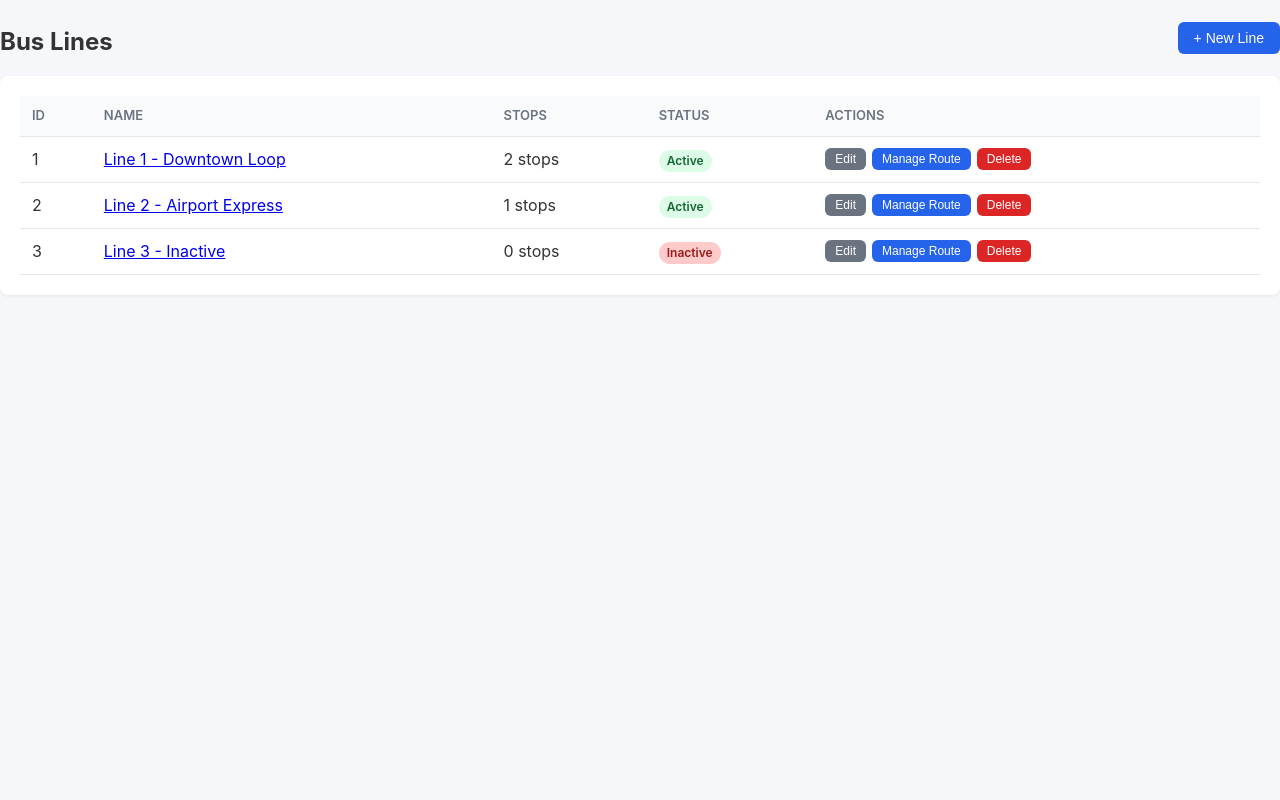
Scenario: BusLines Page › opens create modal when clicking "+ New Line"
Click the button "+ New Line" at coordinates (1229, 38), box [1178, 22, 1279, 54]
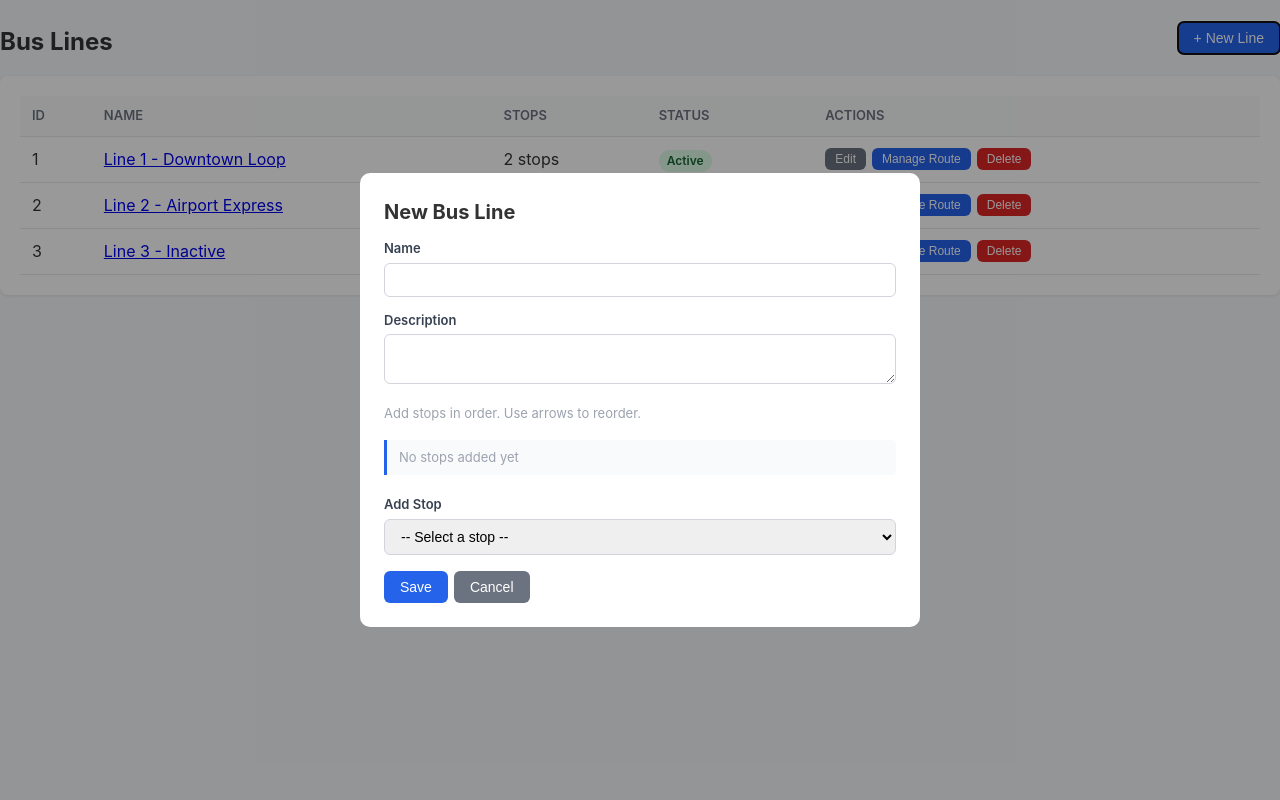
Expected: the heading "New Bus Line" is shown, [384, 200, 515, 224]
Expected: the field is shown, [384, 263, 896, 297]
